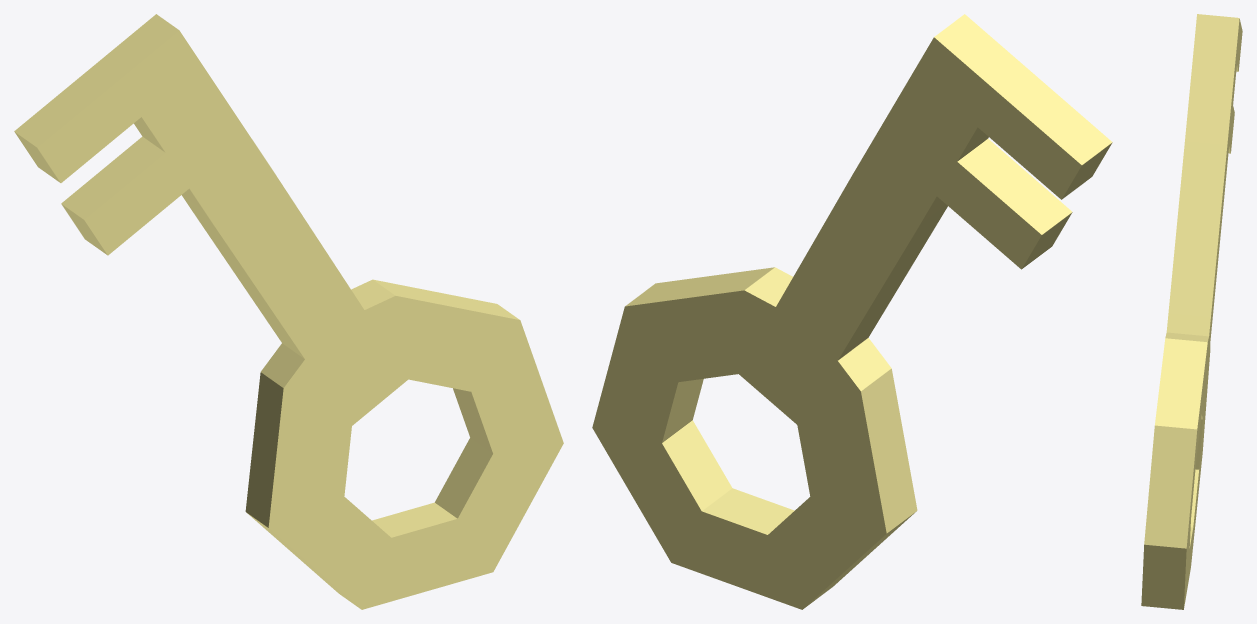
The model's file is Key.fbx.
3 renders of one model, left to right at view 1: azimuth 30°, elevation 25°; view 2: azimuth 150°, elevation 25°; view 3: azimuth 270°, elevation 25°, orthographic. The views are drawn at different scales.
Visible parts, largest first — view 1: pCylinder6; view 2: pCylinder6; view 3: pCylinder6.
Boxes of the visible parts, x1,y1,x2,y2 form: pCylinder6: (14,14,563,609); pCylinder6: (592,14,1112,609); pCylinder6: (1141,14,1242,609).
Bounding box in the file's own units: 3.84 × 4.44 × 0.8295.
1 material, 1 textured.
